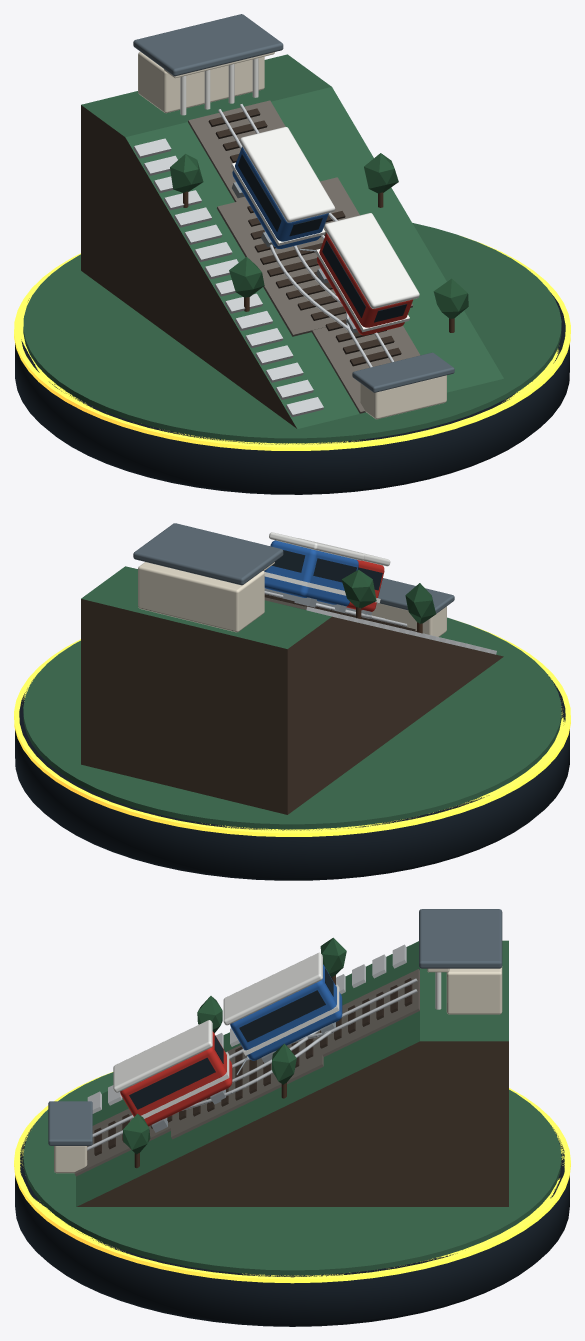
The model's file is funicular.glb.
3 renders of one model, top to bottom at view 1: azimuth 30°, elevation 25°; view 2: azimuth 150°, elevation 25°; view 3: azimuth 270°, elevation 25°, orthographic.
Visible parts, largest first — view 1: hill, ground, plinth, rim, ballast, ballast_loop, roof_top, car_red_roof, car_blue_roof, station_top, station_bottom, roof_bottom (+8 smaller); view 2: hill, ground, plinth, rim, station_top, roof_top, car_blue_body, roof_bottom, station_bottom, crown3, crown1, car_blue_roof (+2 smaller); view 3: hill, ground, plinth, rim, roof_top, ballast, car_blue_body, car_blue_roof, car_red_roof, car_red_body, ballast_loop, station_top (+10 smaller).
Part boxes in pixels (x1,y1,x2,y2): hill: (81,54,503,428); ground: (23,223,561,443); plinth: (15,292,569,494); rim: (14,237,570,450); ballast: (188,100,419,413); ballast_loop: (217,177,413,336); roof_top: (133,14,283,76); car_red_roof: (324,213,419,308); car_blue_roof: (239,126,335,222); station_top: (138,52,264,113); station_bottom: (360,375,446,419); roof_bottom: (352,352,454,392); hill: (81,566,503,814); ground: (23,617,561,829); plinth: (15,674,569,880); rim: (14,626,570,836); station_top: (138,562,264,632); roof_top: (133,523,283,585); car_blue_body: (264,540,358,606); roof_bottom: (377,578,454,613); station_bottom: (371,603,446,636); crown3: (341,569,376,608); crown1: (405,583,435,623); car_blue_roof: (269,532,364,560); hill: (76,940,508,1206); ground: (23,1072,561,1275); plinth: (15,1119,569,1326); rim: (14,1072,570,1283); roof_top: (419,909,502,968); ballast: (74,969,419,1176); car_blue_body: (230,964,342,1060); car_blue_roof: (223,952,322,1025); car_red_roof: (113,1020,212,1092); car_red_body: (120,1031,232,1126); ballast_loop: (171,1031,323,1139); station_top: (446,966,502,1014).
Size of the model in its own units: 2.01 by 1.1 by 2.01.
